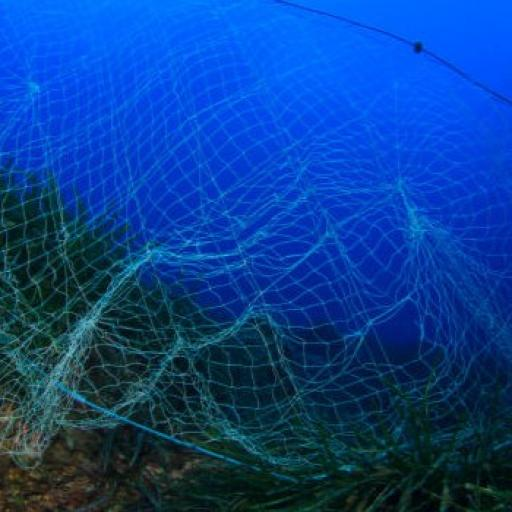net: (0, 0, 510, 470)
